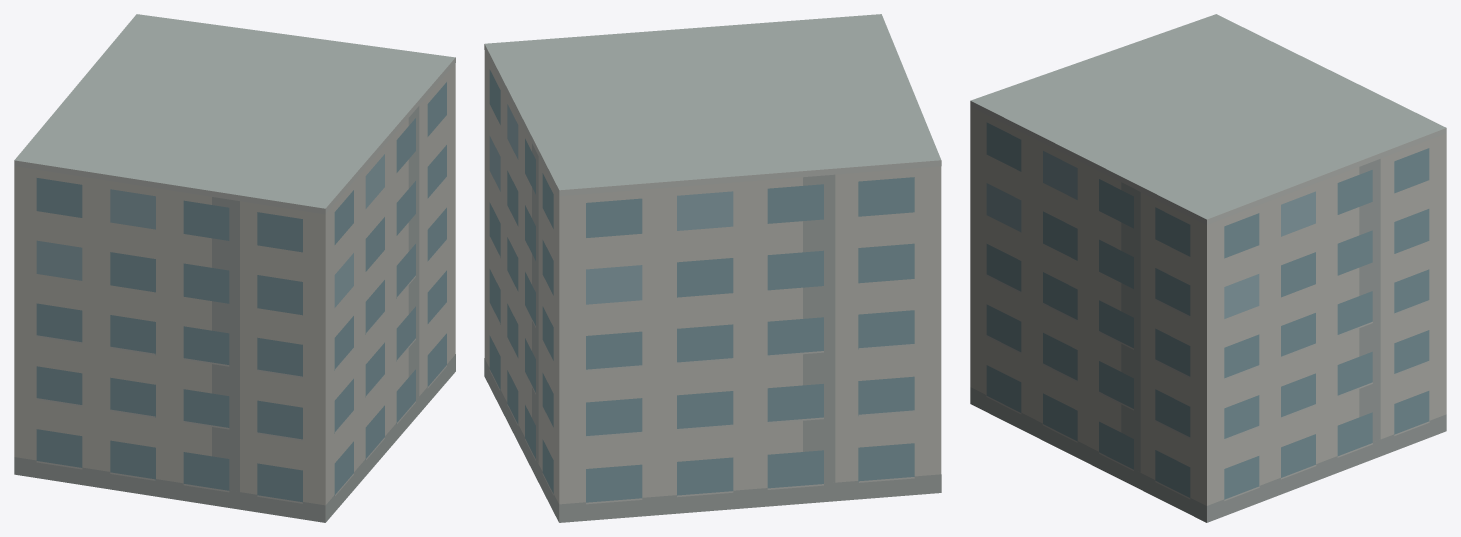
Rendered from survey-upis-32838238.glb.
3 views of the same model, side by side, from view 1: azimuth 30°, elevation 25°; view 2: azimuth 150°, elevation 25°; view 3: azimuth 270°, elevation 25° (orthographic). The views are drawn at different scales.
Parts seen in each view (by area): view 1: survey-upis-32838238.tmp; view 2: survey-upis-32838238.tmp; view 3: survey-upis-32838238.tmp.
Part boxes in pixels (x1,y1,x2,y2): survey-upis-32838238.tmp: (14,14,455,522); survey-upis-32838238.tmp: (484,14,941,522); survey-upis-32838238.tmp: (970,14,1446,522).
Size of the model in its own units: 19.35 by 13.3 by 18.94.
